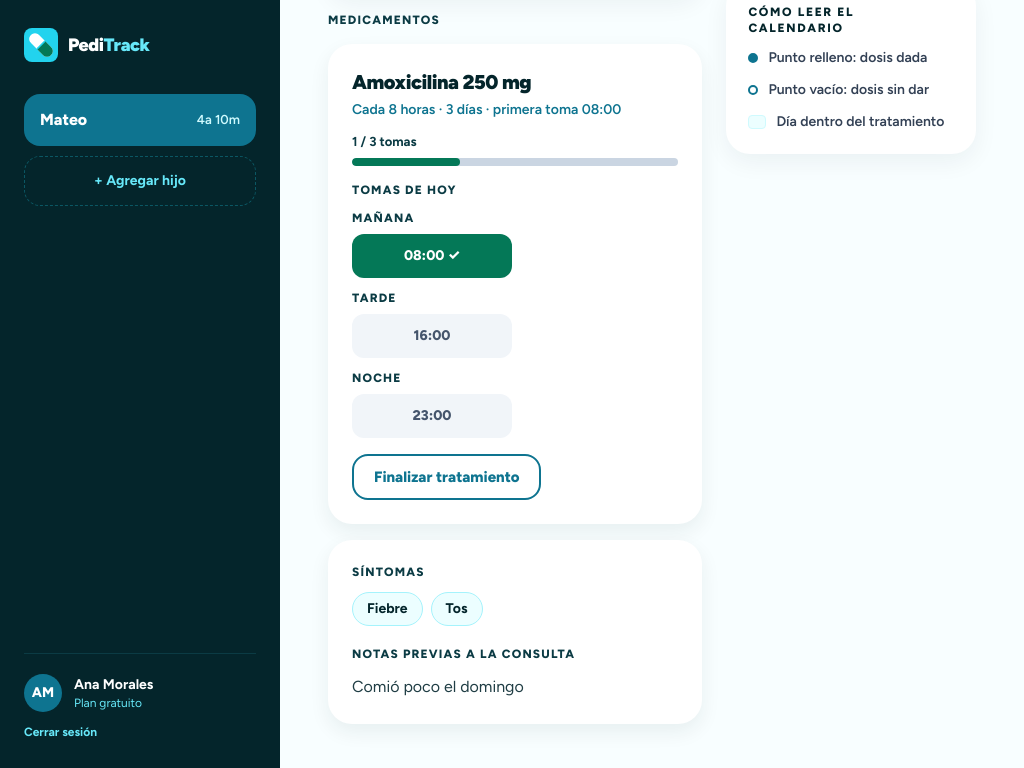
Test: ConsultationDetailPage › on the phone (mock 03) › ending the treatment early (specs/016) › a failure says so in Spanish and keeps the dialog open
This screenshot has width=1024, height=768.
(page scrolled)
Click the button "Finalizar tratamiento" at (447, 477), box [352, 454, 541, 500]
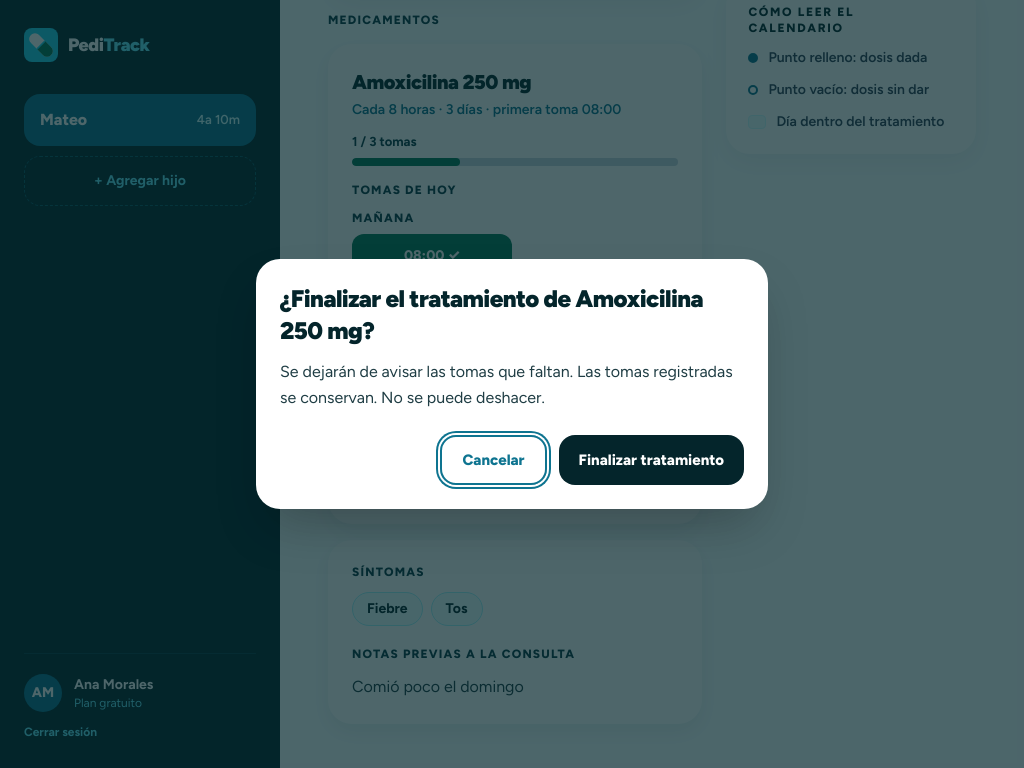
Click the button "Finalizar tratamiento" at (651, 460), box [559, 435, 744, 485]
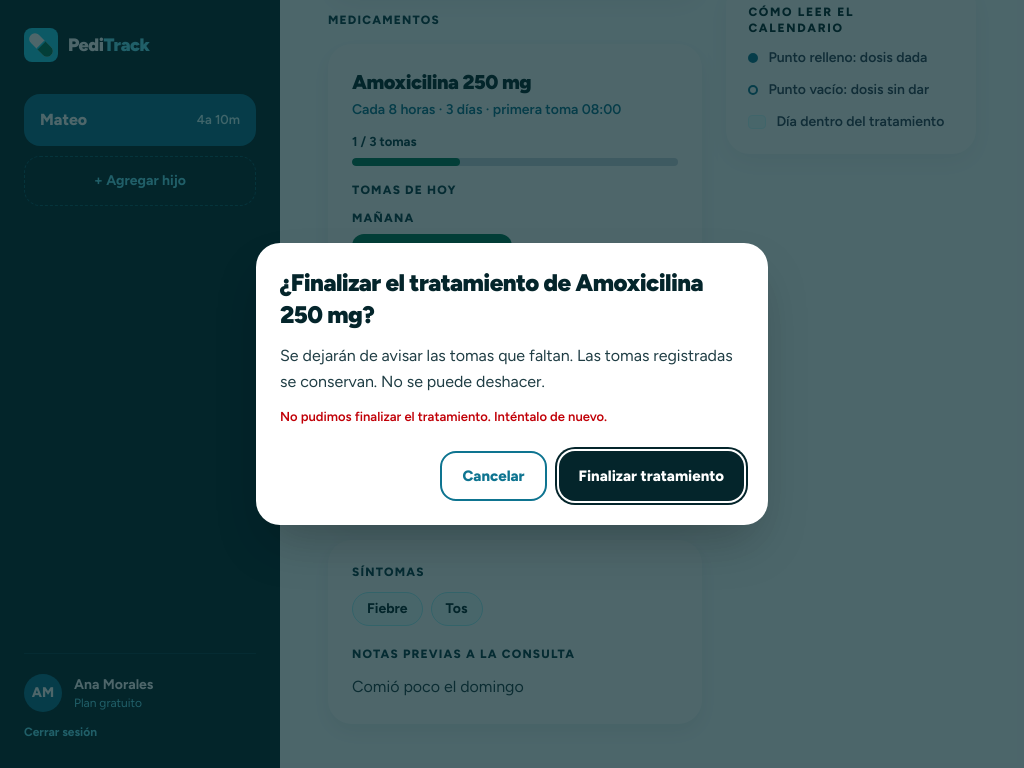
Result: the dialog is shown at [256, 243, 768, 525]
Result: the message shows "No pudimos finalizar el tratamiento" at [280, 409, 607, 424]
